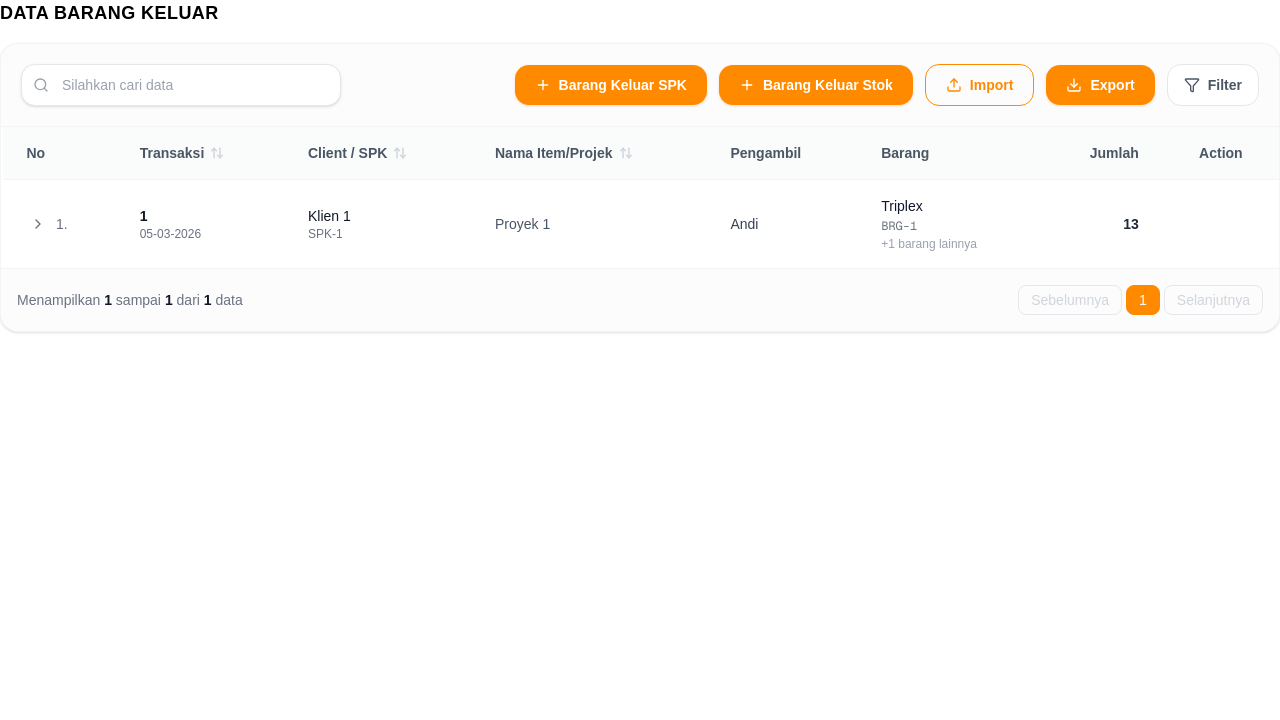
Scenario: BarangKeluar list › edits a line from the rincian pop-up, which closes before the edit form opens
Click the button named "Lihat rincian 1".
click(144, 216)  # box left=140, top=206, right=148, bottom=226
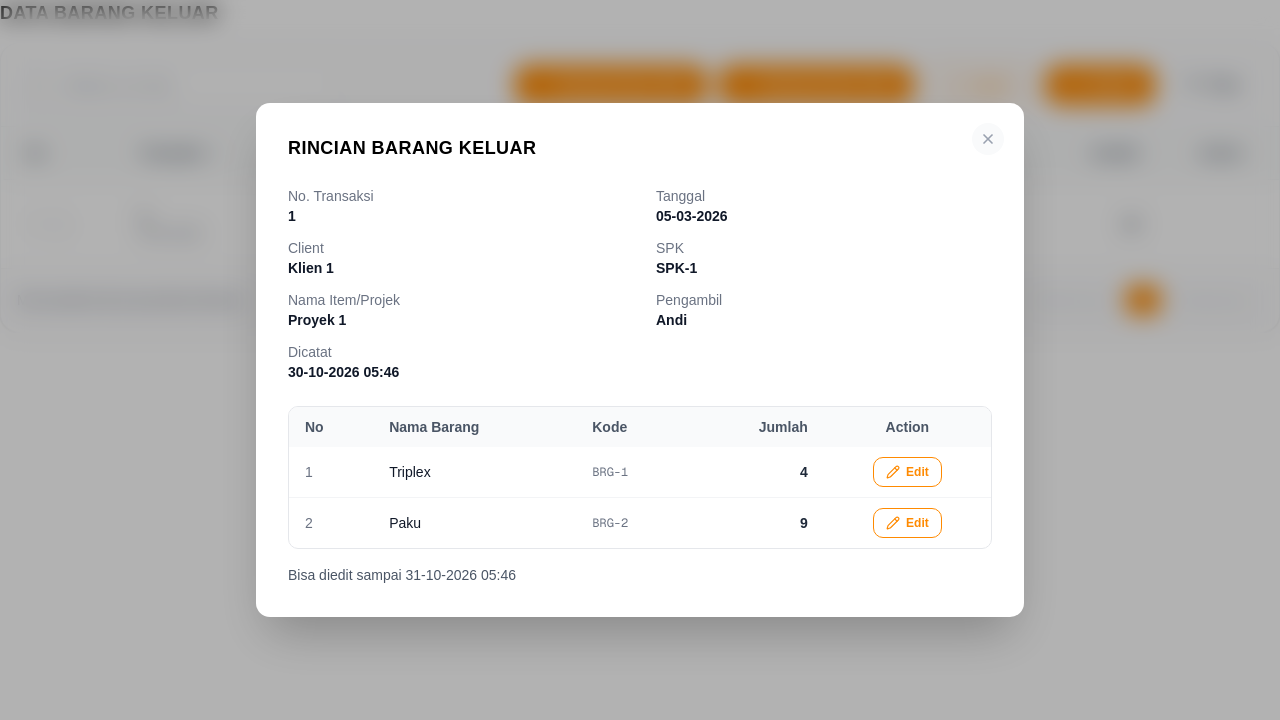
expect the text "Bisa diedit sampai 31-10-2026 05:46" is shown: met, box left=288, top=567, right=516, bottom=583
Click the button with aria-label "Edit barang keluar 1 Paku".
click(907, 523)  # box left=873, top=508, right=942, bottom=538
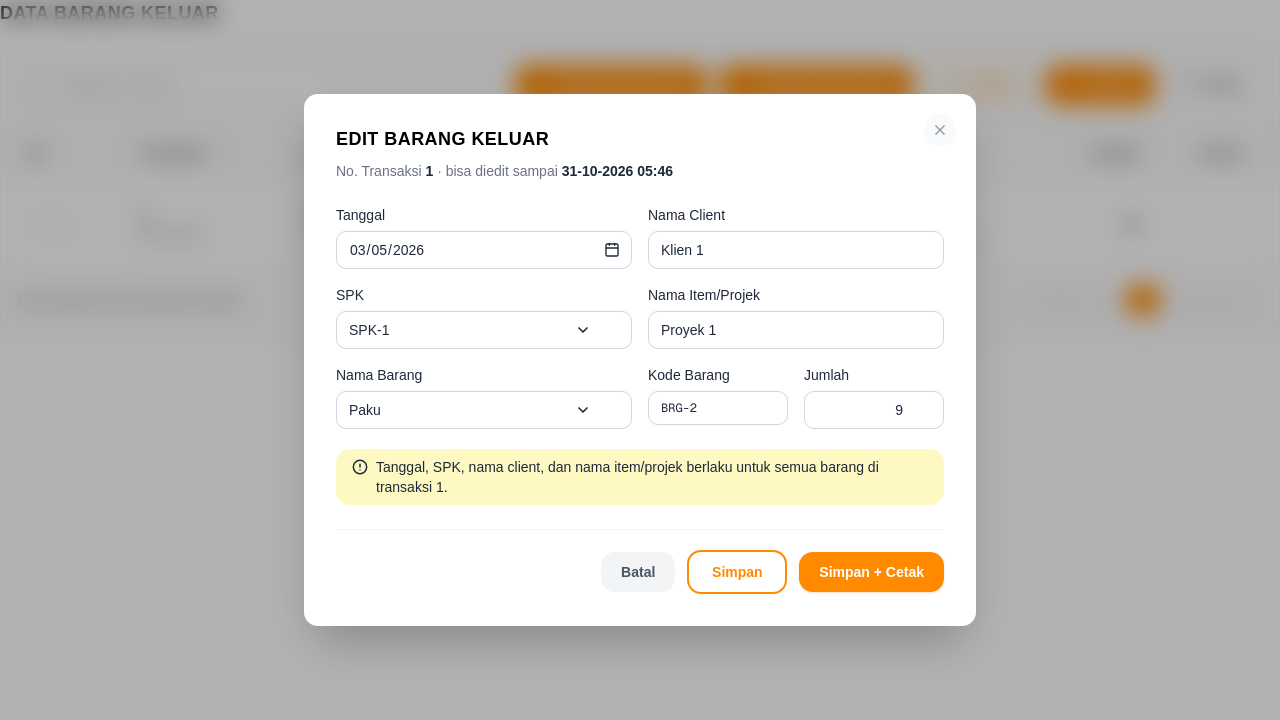
expect the heading "Rincian Barang Keluar" is gone: met
expect the field labelled "Jumlah" holds "9": met, box left=804, top=391, right=944, bottom=429
